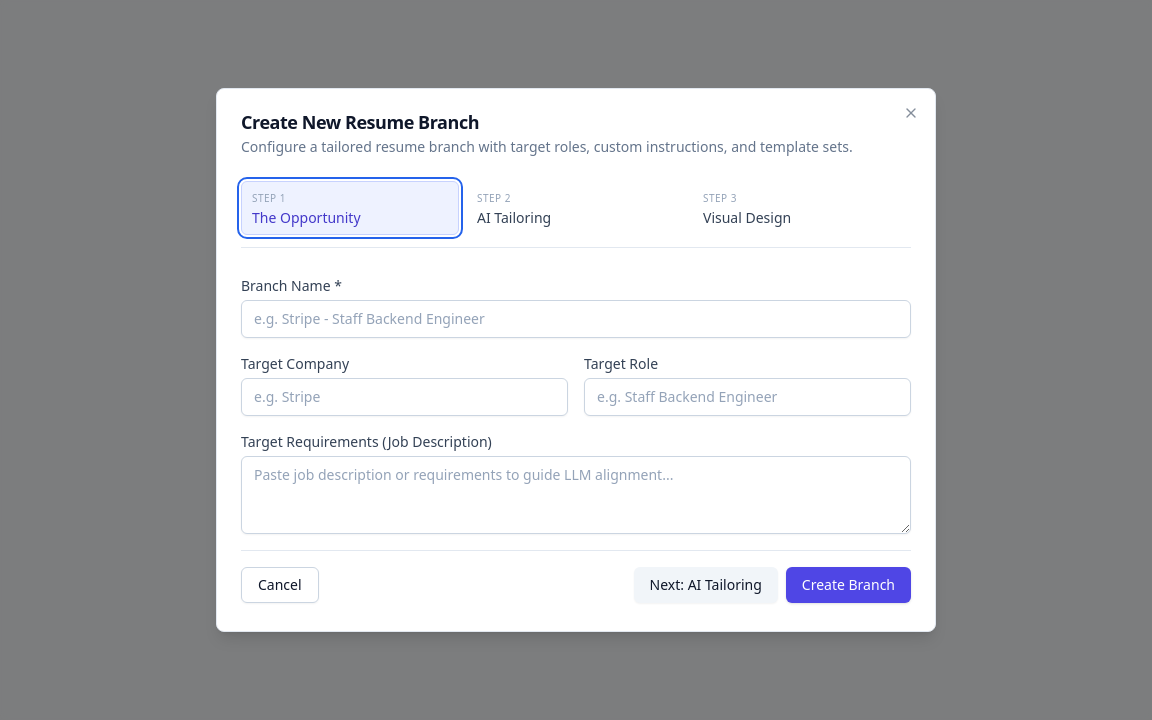
it: CreateBranchModal Component › validates name uniqueness against existing branches
Type "Existing Tech Lead" into the field labelled "Branch Name *". click: (576, 319)
box: [241,300,911,338]
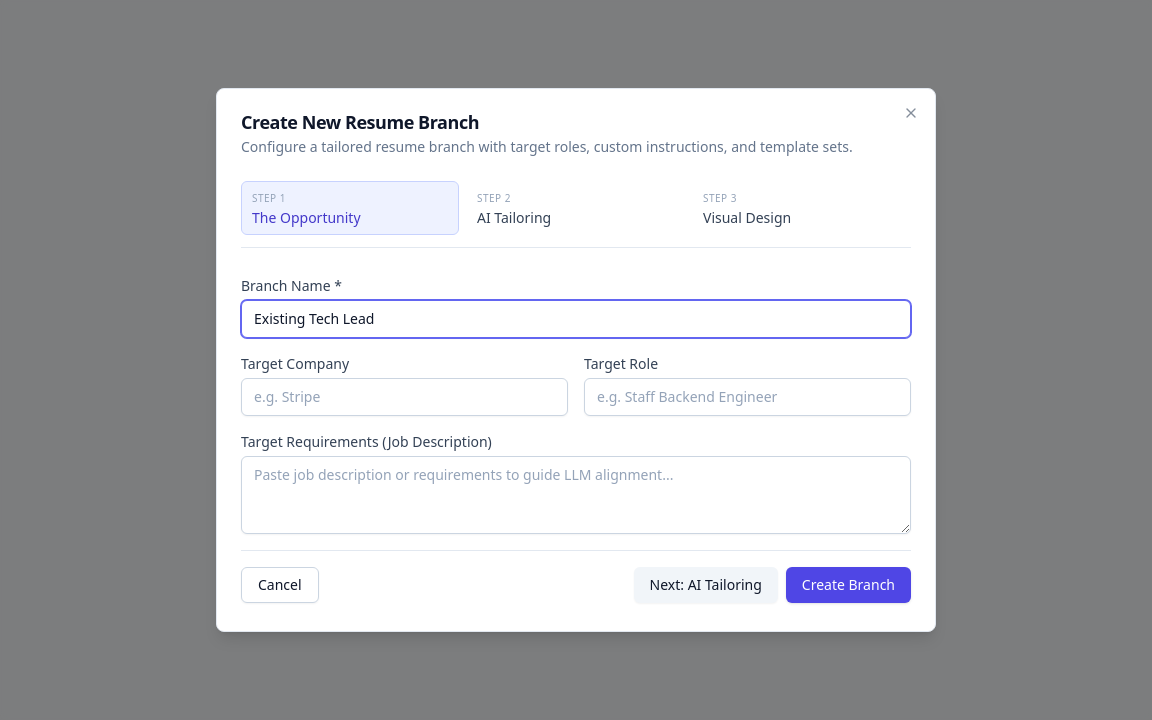
Click the button "Create Branch". click: (848, 585)
box: [786,567,911,603]
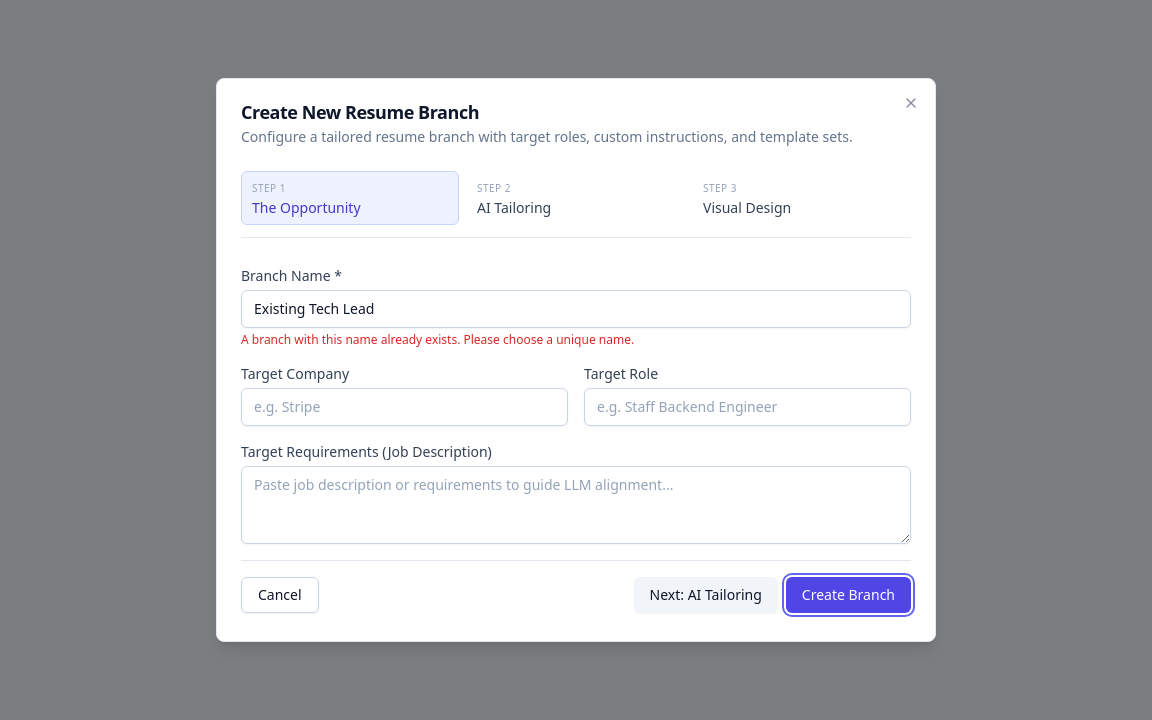
Expected: the text "A branch with this name already exists. Please choose a unique name." is shown, [241,331,634,348]
